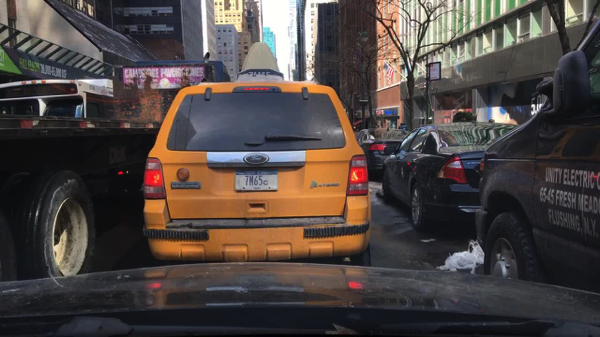bus: (0, 78, 113, 119)
car: (143, 82, 369, 263), (477, 20, 599, 281), (380, 123, 520, 232), (353, 129, 409, 181)
truck: (0, 60, 230, 281)
